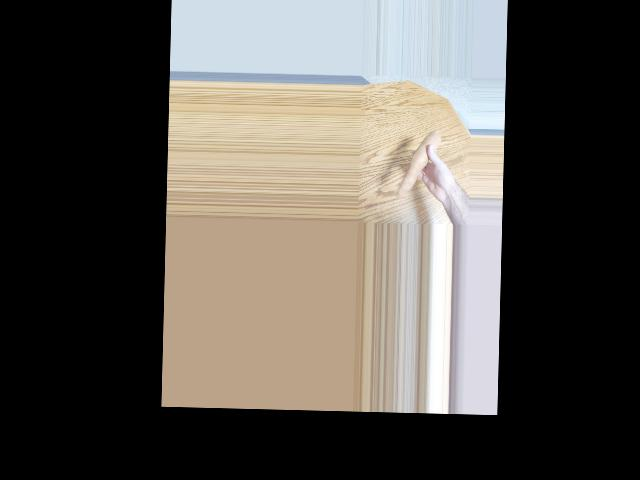sweet_potato: (401, 122, 439, 198)
